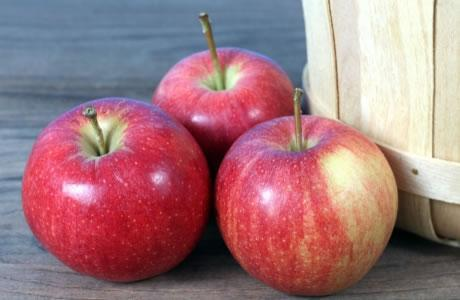Apple: (216, 89, 400, 296), (20, 95, 213, 285), (138, 12, 295, 173)
